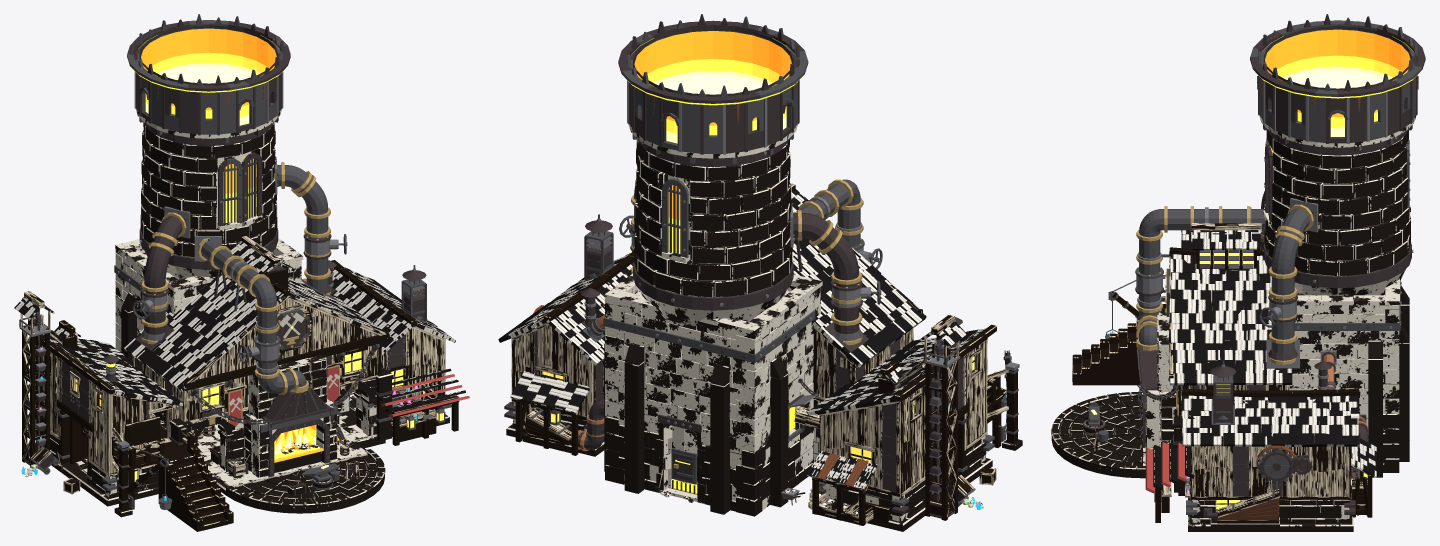
File: LOBBY_03_FORGE_87a2cf.fbx
The picture shows the model from 3 angles, left to right: view 1: azimuth 30°, elevation 25°; view 2: azimuth 150°, elevation 25°; view 3: azimuth 270°, elevation 25°; orthographic projection. The views are drawn at different scales.
Visible parts, largest first — view 1: FORGE_Chimney_Tower__Metal_Dark, FORGE_Chimney_Tower__Metal_Burnt, FORGE_Hall__Roof_Forge, FORGE_Wing_L__Wood_Dark, FORGE_Chimney_Tower__Stone_Forge_Dark, FORGE_Chimney_Tower__Stone_Forge, FORGE_Hall__Stone_Forge_Dark, FORGE_Hall__Stone_Paving_B, FORGE_Chimney_Tower__Ember_Glow, FORGE_Chimney_Tower__Metal_Brass, FORGE_Hearth__Metal_Burnt, FORGE_Chimney_Tower__Stone_Forge_B (+47 smaller); view 2: FORGE_Chimney_Tower__Stone_Forge_Dark, FORGE_Chimney_Tower__Metal_Burnt, FORGE_Chimney_Tower__Metal_Dark, FORGE_Chimney_Tower__Stone_Forge, FORGE_Chimney_Tower__Stone_Forge_B, FORGE_Wing_L__Wood_Dark, FORGE_Chimney_Tower__Stone_Forge_C, FORGE_Hall__Roof_Forge, FORGE_Wing_R__Roof_Forge, FORGE_Chimney_Tower__Ember_Glow, FORGE_Wing_L__Roof_Forge, FORGE_Chimney_Tower__Stone_Light (+30 smaller); view 3: FORGE_Hall__Roof_Forge, FORGE_Chimney_Tower__Stone_Forge_Dark, FORGE_Chimney_Tower__Metal_Dark, FORGE_Chimney_Tower__Metal_Burnt, FORGE_Wing_R__Roof_Forge, FORGE_Chimney_Tower__Stone_Forge, FORGE_Chimney_Tower__Stone_Forge_B, FORGE_Wing_R__Wood_Dark, FORGE_Chimney_Tower__Ember_Glow, FORGE_Chimney_Tower__Stone_Forge_C, FORGE_Wing_R__Metal_Burnt, FORGE_Hall__Stone_Paving_B (+27 smaller).
Part boxes in pixels (x1,y1,x2,y2): FORGE_Chimney_Tower__Metal_Dark: [114, 14, 347, 393]; FORGE_Chimney_Tower__Metal_Burnt: [127, 19, 331, 363]; FORGE_Hall__Roof_Forge: [124, 241, 393, 391]; FORGE_Wing_L__Wood_Dark: [35, 341, 233, 531]; FORGE_Chimney_Tower__Stone_Forge_Dark: [115, 109, 301, 431]; FORGE_Chimney_Tower__Stone_Forge: [126, 127, 292, 401]; FORGE_Hall__Stone_Forge_Dark: [35, 378, 449, 513]; FORGE_Hall__Stone_Paving_B: [197, 412, 377, 502]; FORGE_Chimney_Tower__Ember_Glow: [141, 28, 276, 193]; FORGE_Chimney_Tower__Metal_Brass: [141, 162, 330, 395]; FORGE_Hearth__Metal_Burnt: [194, 352, 372, 495]; FORGE_Chimney_Tower__Stone_Forge_B: [137, 122, 276, 330]; FORGE_Chimney_Tower__Stone_Forge_Dark: [604, 123, 820, 516]; FORGE_Chimney_Tower__Metal_Burnt: [598, 14, 873, 493]; FORGE_Chimney_Tower__Metal_Dark: [583, 16, 882, 490]; FORGE_Chimney_Tower__Stone_Forge: [613, 145, 804, 478]; FORGE_Chimney_Tower__Stone_Forge_B: [609, 139, 804, 464]; FORGE_Wing_L__Wood_Dark: [791, 340, 1017, 525]; FORGE_Chimney_Tower__Stone_Forge_C: [609, 140, 800, 469]; FORGE_Hall__Roof_Forge: [791, 189, 926, 367]; FORGE_Wing_R__Roof_Forge: [498, 253, 633, 413]; FORGE_Chimney_Tower__Ember_Glow: [634, 31, 791, 219]; FORGE_Wing_L__Roof_Forge: [807, 328, 985, 489]; FORGE_Chimney_Tower__Stone_Light: [604, 274, 822, 500]; FORGE_Hall__Roof_Forge: [1169, 229, 1292, 385]; FORGE_Chimney_Tower__Stone_Forge_Dark: [1259, 115, 1416, 477]; FORGE_Chimney_Tower__Metal_Dark: [1135, 17, 1422, 389]; FORGE_Chimney_Tower__Metal_Burnt: [1135, 14, 1425, 372]; FORGE_Wing_R__Roof_Forge: [1181, 392, 1376, 477]; FORGE_Chimney_Tower__Stone_Forge: [1265, 130, 1407, 432]; FORGE_Chimney_Tower__Stone_Forge_B: [1265, 139, 1408, 388]; FORGE_Wing_R__Wood_Dark: [1155, 389, 1374, 522]; FORGE_Chimney_Tower__Ember_Glow: [1264, 29, 1410, 182]; FORGE_Chimney_Tower__Stone_Forge_C: [1271, 130, 1410, 434]; FORGE_Wing_R__Metal_Burnt: [1203, 361, 1368, 518]; FORGE_Hall__Stone_Paving_B: [1059, 396, 1145, 465].
Bounding box in the file's own units: 79.42 × 71.52 × 61.43.
27 materials, 4 textured.
